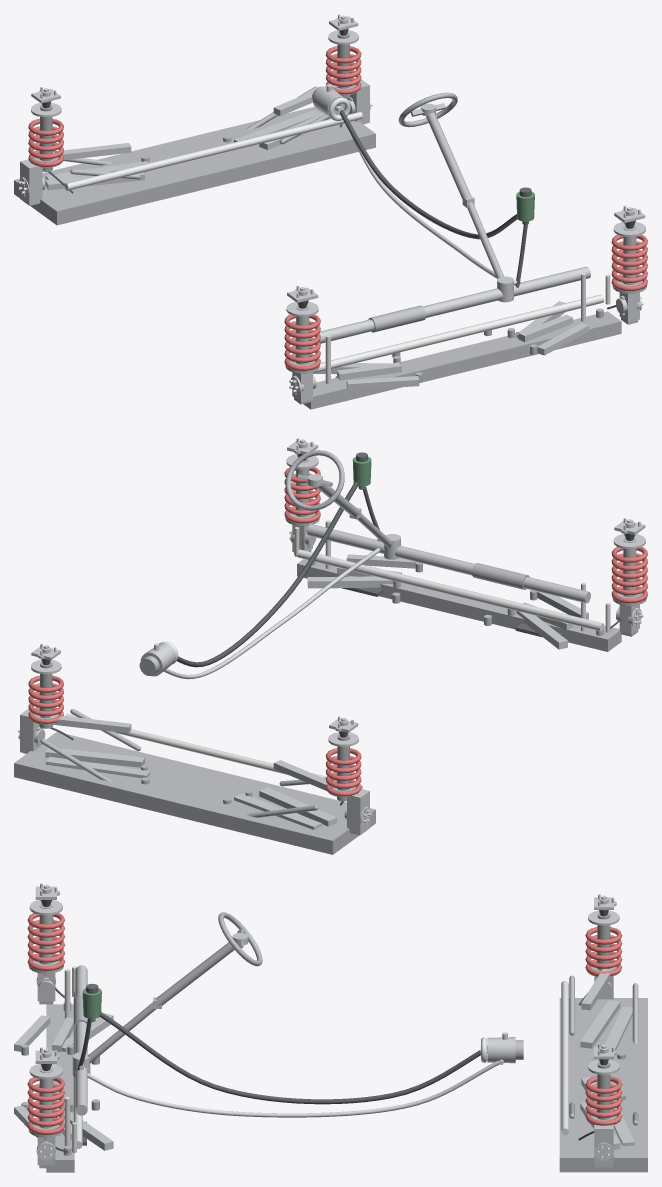
File: susp.glb
The picture shows the model from 3 angles, top to bottom: view 1: azimuth 30°, elevation 25°; view 2: azimuth 150°, elevation 25°; view 3: azimuth 270°, elevation 25°; orthographic projection. The views are drawn at different scales.
Parts seen in each view (by area): view 1: rearSubframe, frontSubframe, steeringRack_tube, frontAntiRollBar, rearAntiRollBar, psLine_suction, steeringColumnUpper, psLine_pressure, steeringRack_powerCyl, frontLowerControlArmLeft_fwd, rearWheelCarrierLeft_body, rearArmUpper_Left (+7 smaller); view 2: rearSubframe, frontSubframe, frontAntiRollBar, steeringRack_tube, psLine_suction, rearAntiRollBar, psLine_pressure, steeringWheelRim, rearArmLower_Right, rearArmLower_Left, frontTrailingArmRight_arm, steeringRack_powerCyl (+8 smaller); view 3: rearSubframe, psLine_suction, psLine_pressure, frontSubframe, steeringRack_tube, rearAntiRollBar, steeringColumnUpper, rearArmLower_Left, steeringWheelRim, psPump_body, steeringColumnLower, rearWheelCarrierRight_body (+10 smaller).
Boxes of the visible parts, bbox=[...] form: rearSubframe: bbox=[14, 106, 375, 225]; frontSubframe: bbox=[303, 311, 621, 409]; steeringRack_tube: bbox=[311, 266, 590, 345]; frontAntiRollBar: bbox=[313, 294, 604, 373]; rearAntiRollBar: bbox=[64, 111, 362, 190]; psLine_suction: bbox=[337, 104, 517, 239]; steeringColumnUpper: bbox=[426, 112, 471, 203]; psLine_pressure: bbox=[350, 133, 496, 278]; steeringRack_powerCyl: bbox=[368, 305, 425, 332]; frontLowerControlArmLeft_fwd: bbox=[346, 376, 419, 390]; rearWheelCarrierLeft_body: bbox=[20, 159, 42, 205]; rearArmUpper_Left: bbox=[53, 143, 131, 160]; rearSubframe: bbox=[14, 732, 375, 854]; frontSubframe: bbox=[297, 559, 621, 651]; frontAntiRollBar: bbox=[297, 549, 603, 631]; steeringRack_tube: bbox=[307, 524, 590, 603]; psLine_suction: bbox=[176, 481, 358, 667]; rearAntiRollBar: bbox=[65, 713, 362, 788]; psLine_pressure: bbox=[163, 548, 380, 679]; steeringWheelRim: bbox=[285, 450, 344, 510]; rearArmLower_Right: bbox=[45, 747, 144, 767]; rearArmLower_Left: bbox=[259, 787, 336, 826]; frontTrailingArmRight_arm: bbox=[307, 576, 393, 588]; steeringRack_powerCyl: bbox=[472, 563, 529, 589]; rearSubframe: bbox=[559, 998, 647, 1172]; psLine_suction: bbox=[100, 1012, 487, 1104]; psLine_pressure: bbox=[87, 1060, 499, 1117]; frontSubframe: bbox=[46, 1004, 74, 1172]; steeringRack_tube: bbox=[75, 965, 87, 1115]; rearAntiRollBar: bbox=[561, 981, 568, 1135]; steeringColumnUpper: bbox=[155, 942, 234, 1006]; rearArmLower_Left: bbox=[580, 1000, 620, 1048]; steeringWheelRim: bbox=[218, 912, 262, 966]; psPump_body: bbox=[487, 1037, 515, 1063]; steeringColumnLower: bbox=[88, 1002, 155, 1063]; rearWheelCarrierRight_body: bbox=[594, 1124, 613, 1167].
Bounding box in the file's own units: 2.41 × 1.3 × 3.59.
